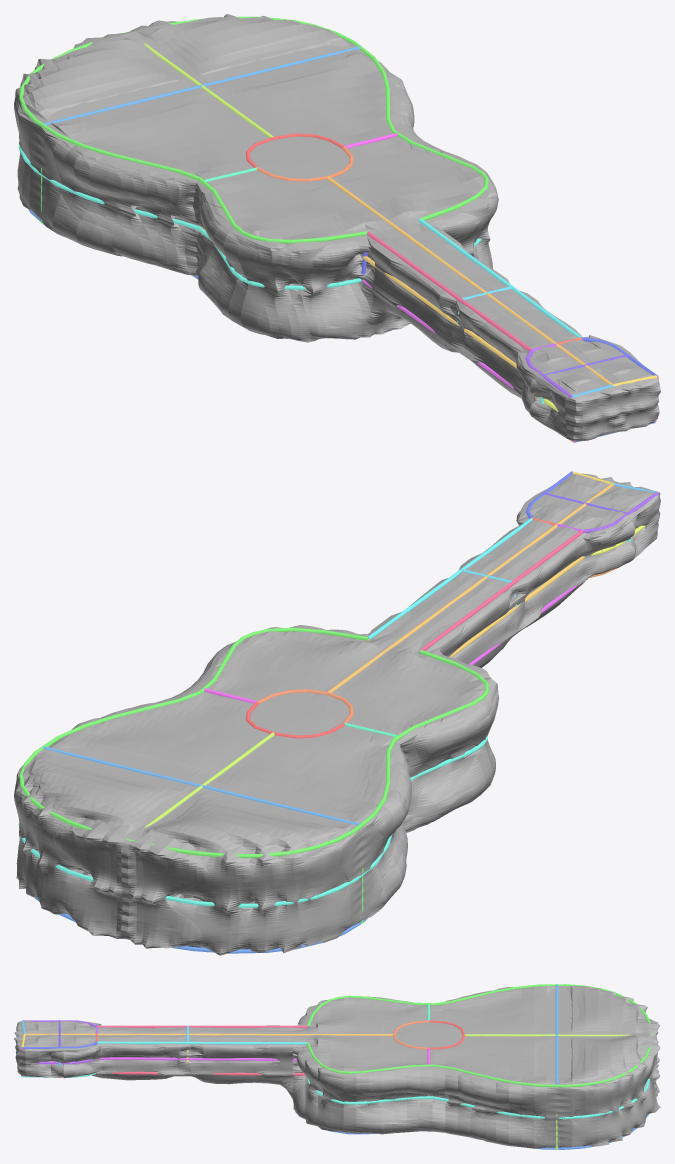
File: t2f_guitar.gltf
3 renders of one model, top to bottom at view 1: azimuth 30°, elevation 25°; view 2: azimuth 150°, elevation 25°; view 3: azimuth 270°, elevation 25°, orthographic. The views are drawn at different scales.
Size of the model in its own units: 0.3675 by 0.1265 by 0.9553.
